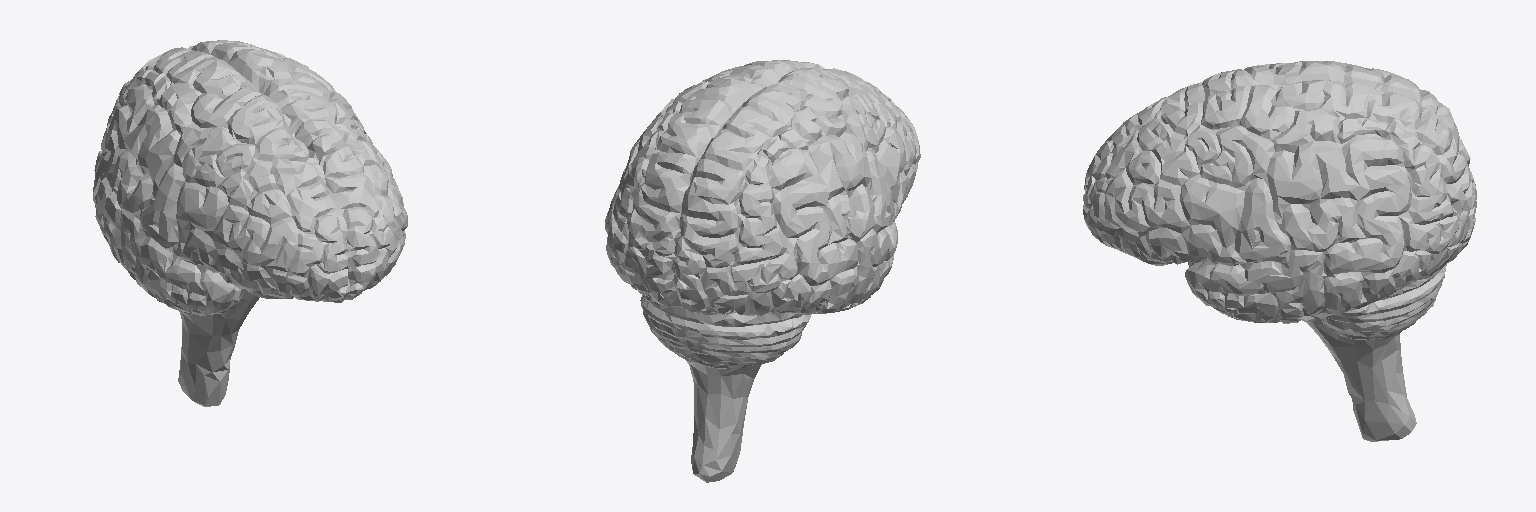
3 views of the same model, side by side, from view 1: azimuth 30°, elevation 25°; view 2: azimuth 150°, elevation 25°; view 3: azimuth 270°, elevation 25° (orthographic).
Visible parts, largest first — view 1: AnyConv.com__brain; view 2: AnyConv.com__brain; view 3: AnyConv.com__brain.
Part boxes in pixels (x1,y1,x2,y2): AnyConv.com__brain: (93, 40, 407, 406); AnyConv.com__brain: (605, 60, 920, 482); AnyConv.com__brain: (1083, 61, 1476, 441).
Size of the model in its own units: 5.15 by 7.7 by 7.5.